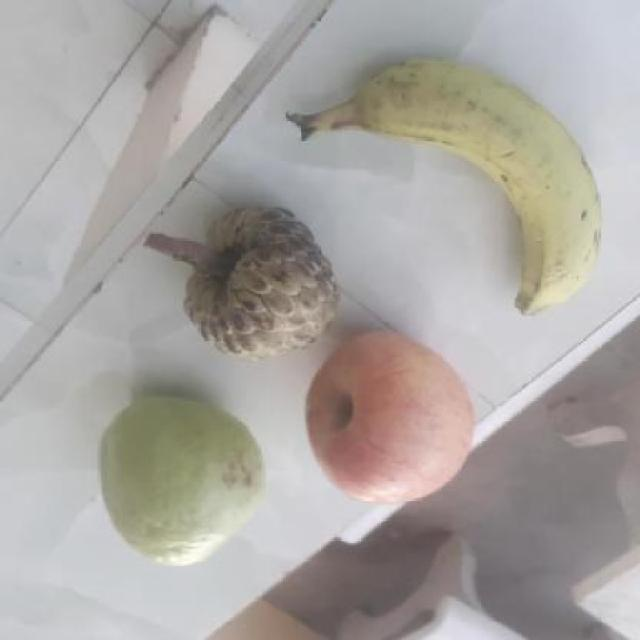apple: (298, 336, 478, 510)
banana: (290, 58, 598, 320)
guava: (94, 399, 260, 561)
sugar apple: (167, 205, 336, 364)
